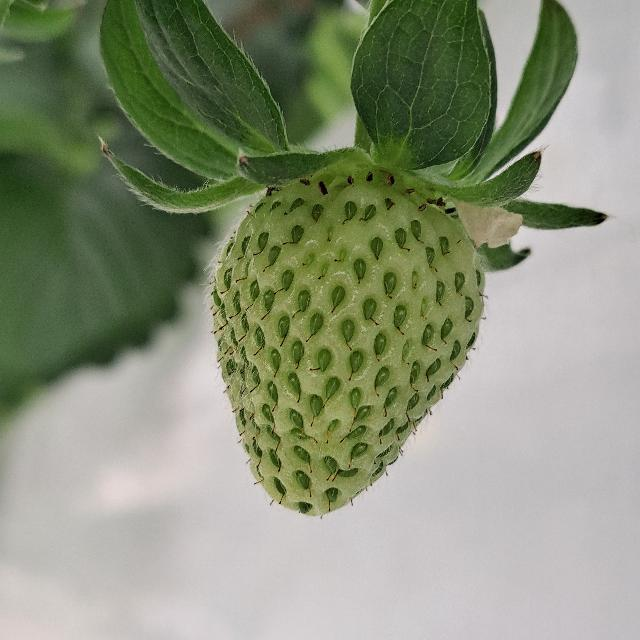Health_25: (210, 178, 486, 516)
